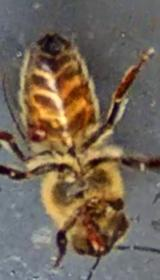varroa_mite: (20, 124, 57, 145)
